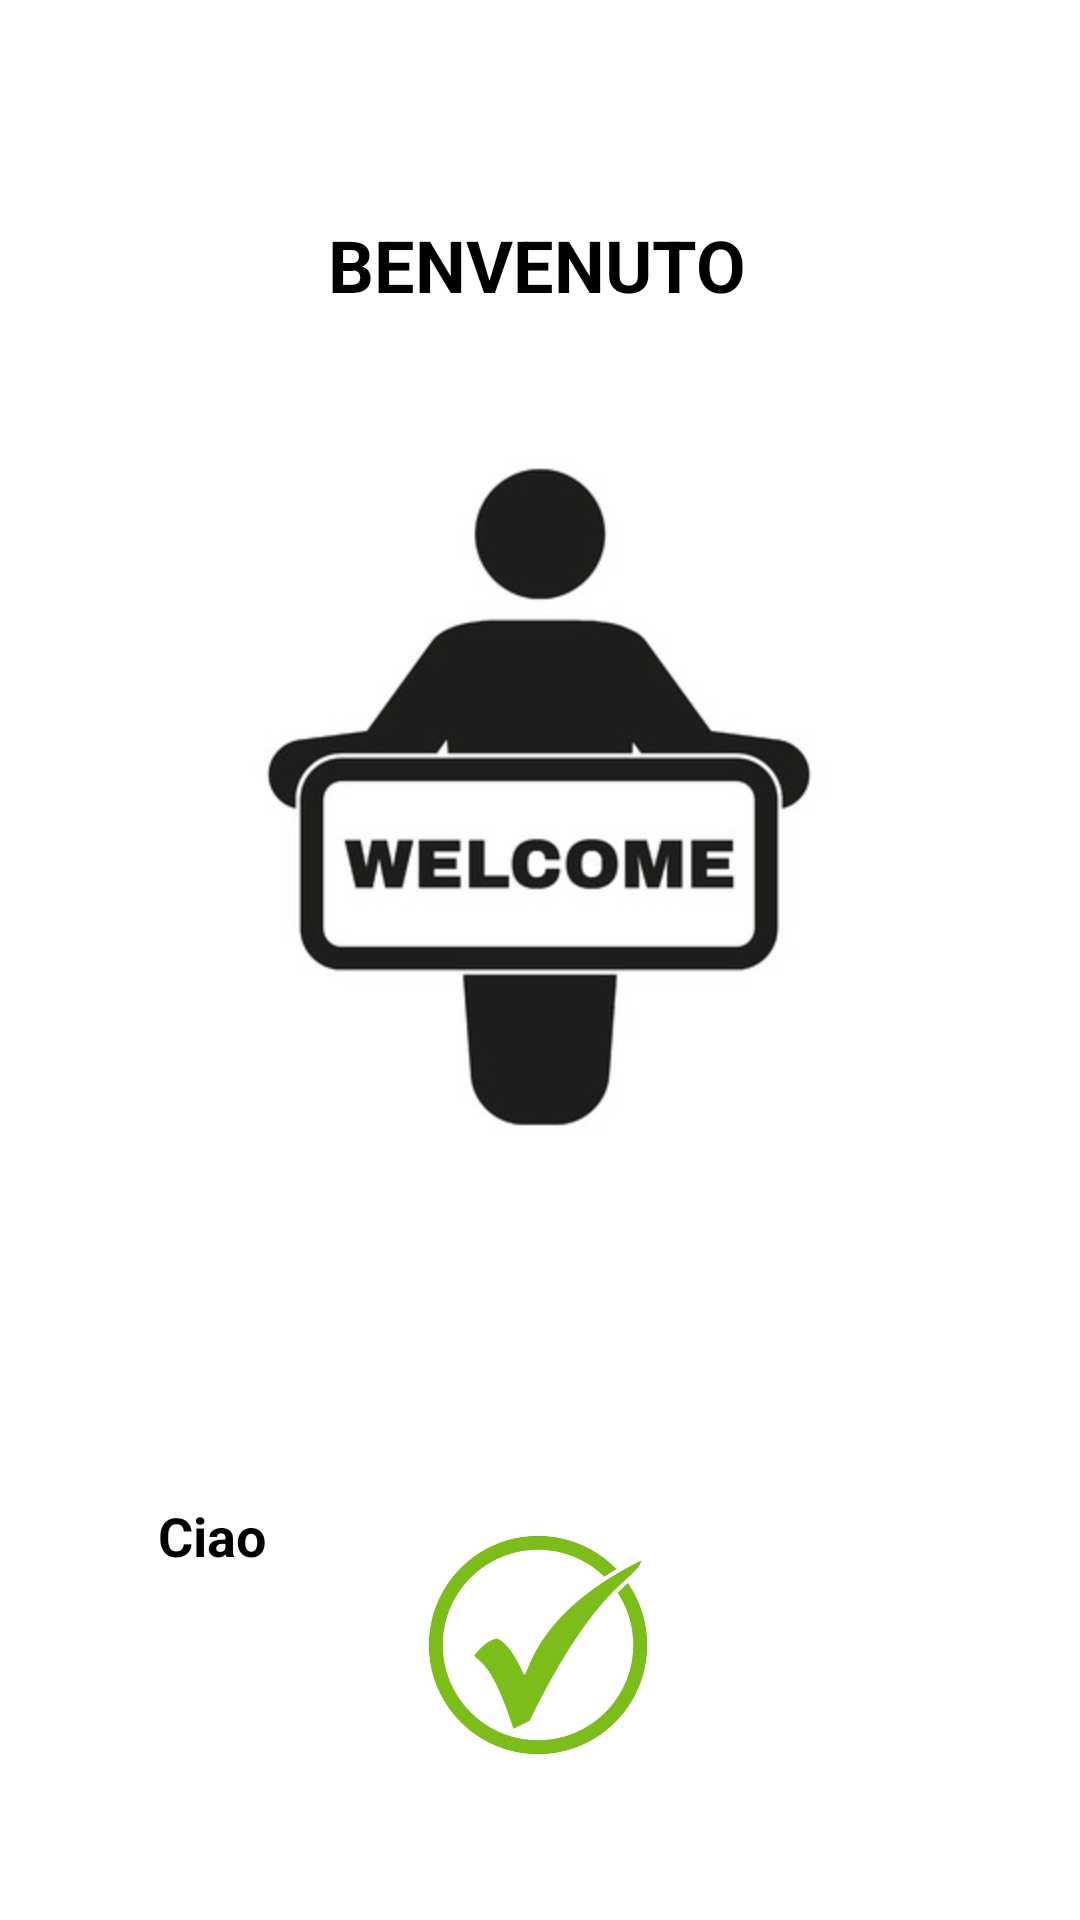

Icons on this 1080 × 1920 Android screen, each with its box as (x1, y1, x2, y2):
spunta: (428, 1535, 648, 1755)
